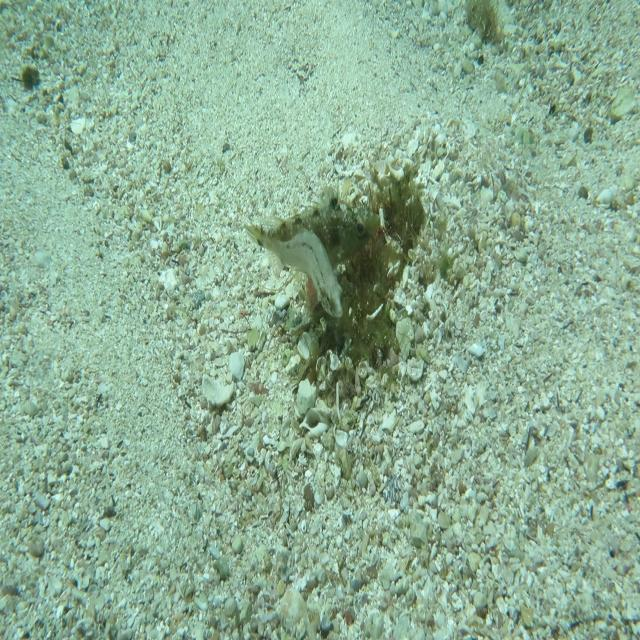FAN: (244, 180, 381, 270)
core_nest: (367, 196, 414, 252)
female: (265, 231, 344, 319)
nest: (280, 141, 440, 408)
